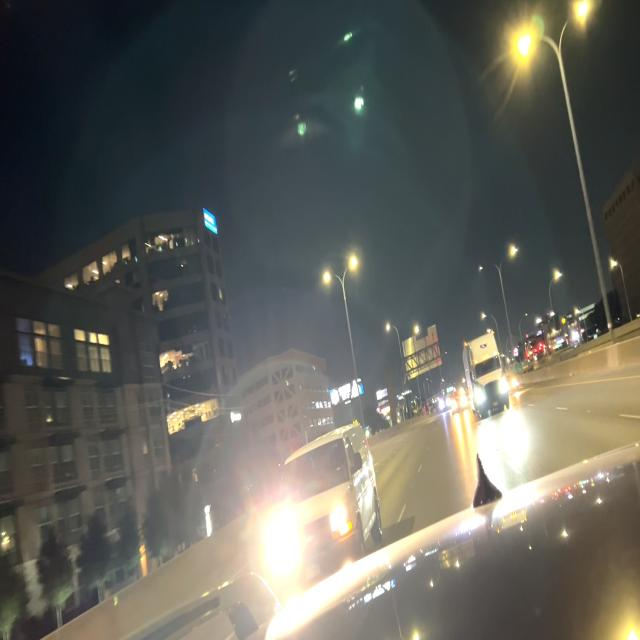back-of-sign: (401, 323, 443, 384)
